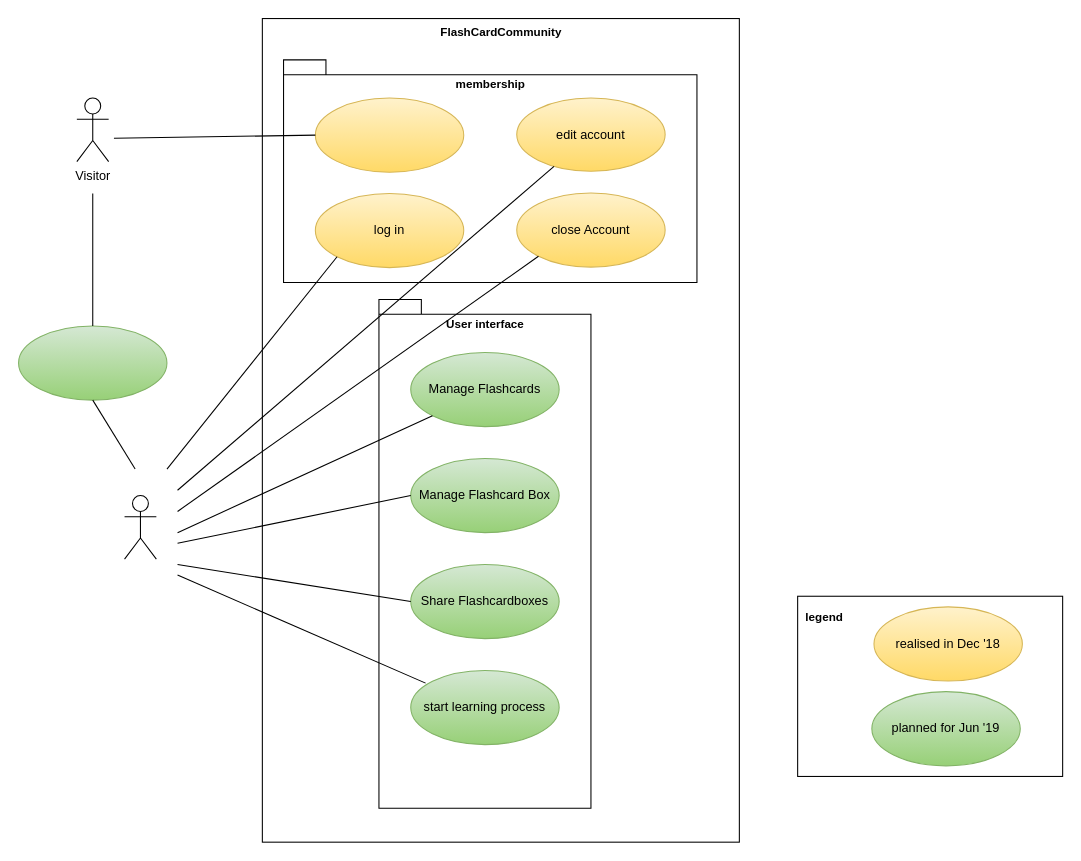
The diagram is 1081 pixels wide and 861 high, and some of its shapes have lost their labels. Each missing label, with the centre of its shape:
"Create Account" goes at [389,134].
"Read F.A.Q" goes at [92,362].
"User" goes at [139,526].
